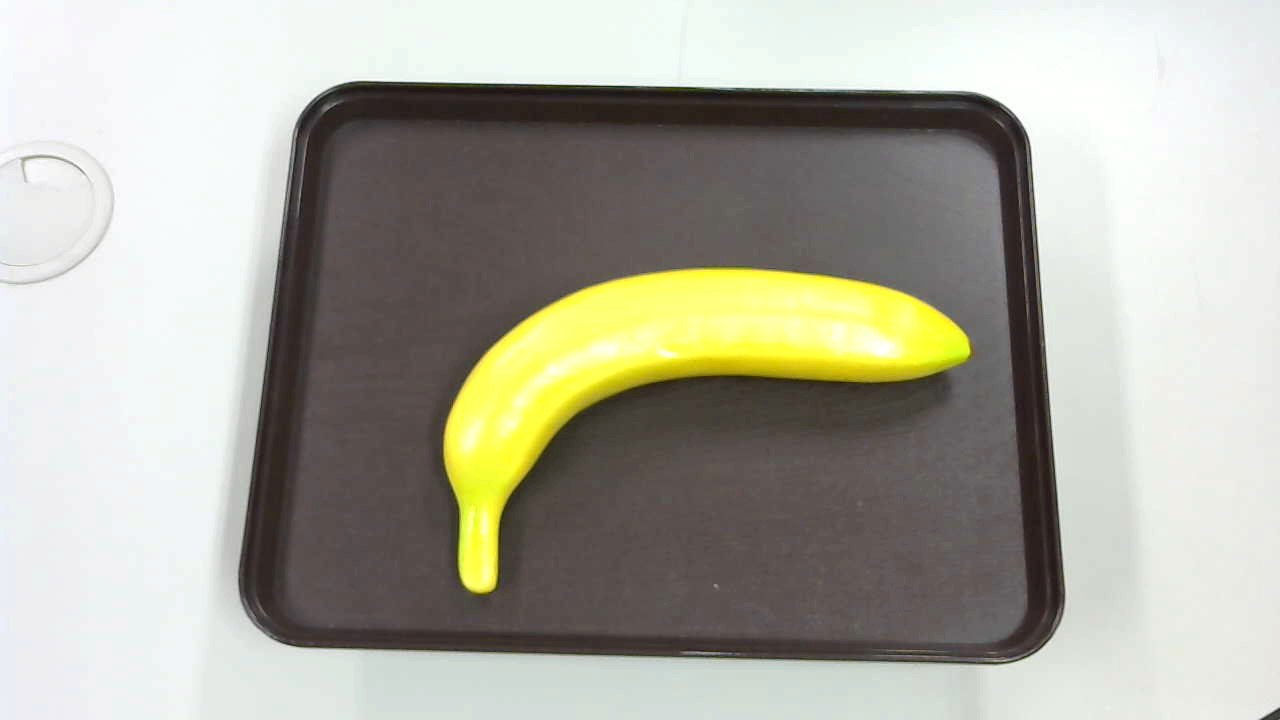banana: (434, 259, 986, 605)
